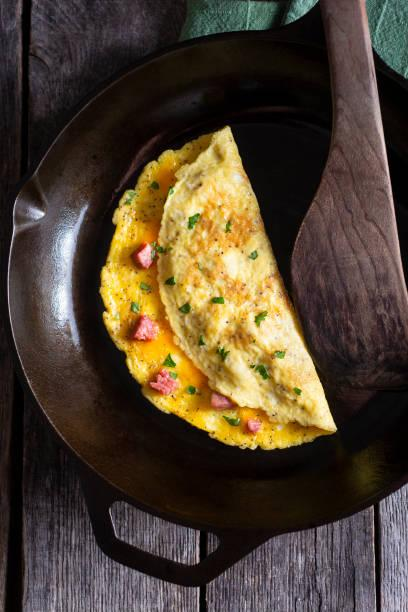omelette: (99, 115, 341, 453)
